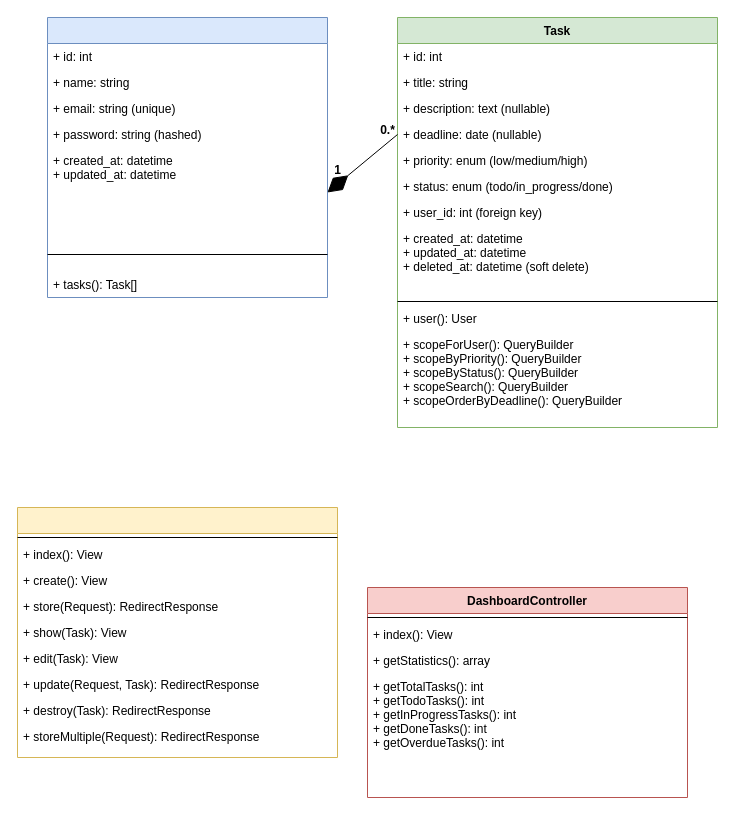
Image size: 735x818. Some labels were removed from this diagram. Here are the shapes that lost their labels. From the top down, the box of each, then its label:
(46, 16, 328, 298): User
(16, 506, 338, 758): TaskController
